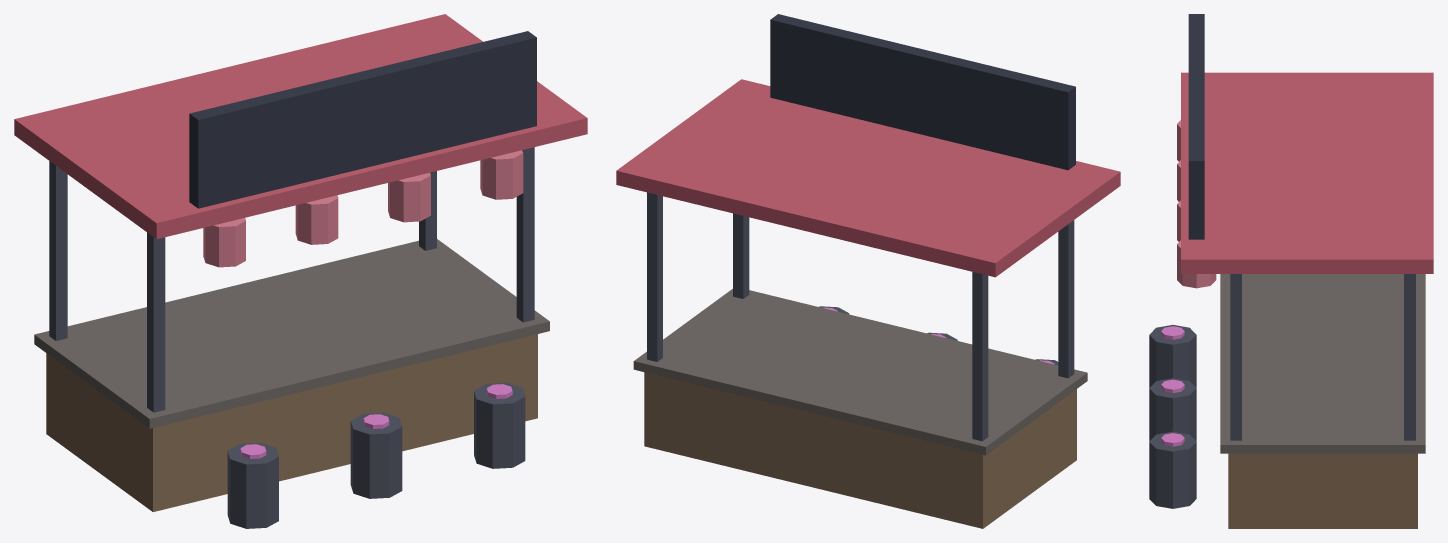
File: c_ramen.glb
3 renders of one model, left to right at view 1: azimuth 30°, elevation 25°; view 2: azimuth 150°, elevation 25°; view 3: azimuth 270°, elevation 25°, orthographic. The views are drawn at different scales.
Parts seen in each view (by area): view 1: koerper, leuchten; view 2: koerper; view 3: koerper, leuchten.
Part boxes in pixels (x1=…): koerper: x1=14, y1=14, x2=587, y2=528; leuchten: x1=203, y1=150, x2=523, y2=458; koerper: x1=616, y1=14, x2=1120, y2=528; koerper: x1=1149, y1=14, x2=1433, y2=528; leuchten: x1=1161, y1=120, x2=1216, y2=446.
Bounding box in the file's own units: 5.6 × 5 × 3.6.
